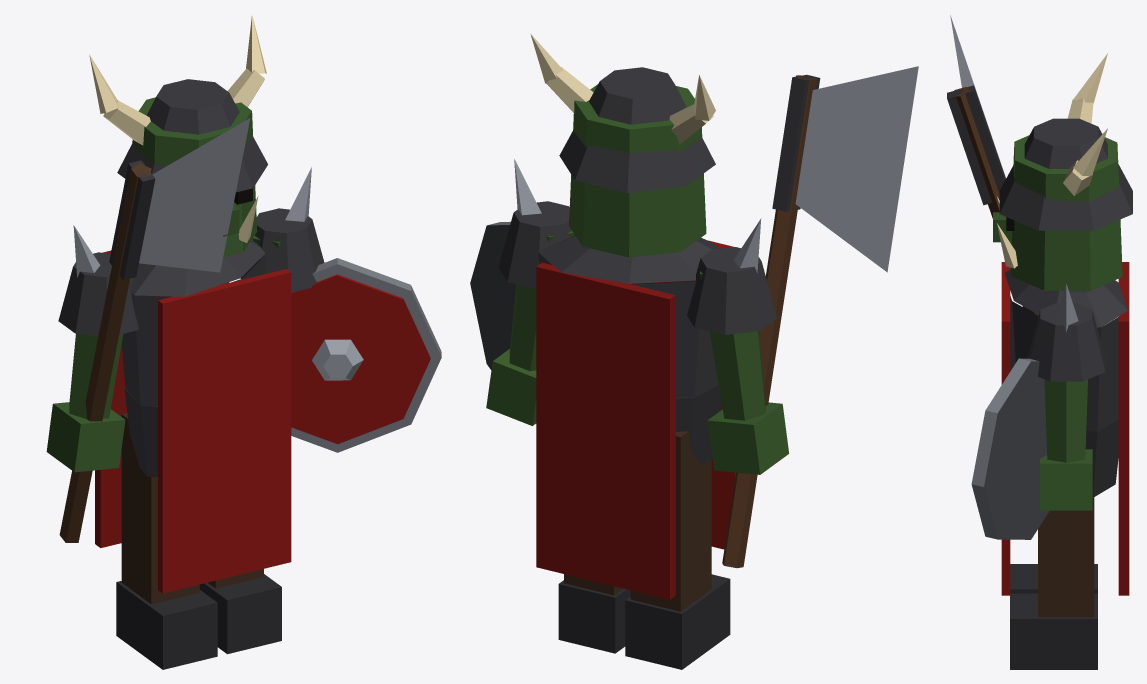
File: orc_warrior.glb
3 views of the same model, side by side, from view 1: azimuth 30°, elevation 25°; view 2: azimuth 150°, elevation 25°; view 3: azimuth 270°, elevation 25° (orthographic). The views are drawn at different scales.
Parts seen in each view (by area): view 1: orc_warrior_torso, orc_warrior_shield, orc_warrior_axe, orc_warrior_head, orc_warrior_leg_r, orc_warrior_arm_r, orc_warrior_leg_l, orc_warrior_arm_l; view 2: orc_warrior_torso, orc_warrior_head, orc_warrior_axe, orc_warrior_arm_r, orc_warrior_leg_r, orc_warrior_arm_l, orc_warrior_leg_l, orc_warrior_shield; view 3: orc_warrior_head, orc_warrior_torso, orc_warrior_leg_l, orc_warrior_arm_l, orc_warrior_shield, orc_warrior_axe, orc_warrior_leg_r.
Part boxes in pixels (x1=…): orc_warrior_torso: x1=95, y1=239, x2=291, y2=593; orc_warrior_shield: x1=291, y1=258, x2=441, y2=452; orc_warrior_axe: x1=59, y1=118, x2=250, y2=542; orc_warrior_head: x1=89, y1=14, x2=267, y2=257; orc_warrior_leg_r: x1=116, y1=413, x2=217, y2=669; orc_warrior_arm_r: x1=46, y1=225, x2=138, y2=472; orc_warrior_leg_l: x1=199, y1=569, x2=281, y2=654; orc_warrior_arm_l: x1=240, y1=167, x2=324, y2=292; orc_warrior_torso: x1=536, y1=235, x2=735, y2=599; orc_warrior_head: x1=530, y1=33, x2=715, y2=257; orc_warrior_axe: x1=722, y1=66, x2=918, y2=568; orc_warrior_arm_r: x1=687, y1=218, x2=788, y2=474; orc_warrior_leg_r: x1=625, y1=431, x2=730, y2=669; orc_warrior_arm_l: x1=486, y1=159, x2=574, y2=425; orc_warrior_leg_l: x1=558, y1=574, x2=630, y2=653; orc_warrior_shield: x1=470, y1=221, x2=516, y2=369; orc_warrior_head: x1=993, y1=53, x2=1132, y2=290; orc_warrior_torso: x1=1001, y1=262, x2=1129, y2=595; orc_warrior_leg_l: x1=1010, y1=497, x2=1097, y2=669; orc_warrior_arm_l: x1=1027, y1=283, x2=1105, y2=510; orc_warrior_shield: x1=971, y1=358, x2=1049, y2=539; orc_warrior_axe: x1=947, y1=15, x2=1038, y2=315; orc_warrior_leg_r: x1=1010, y1=564, x2=1097, y2=593.
Bounding box in the file's own units: 1.65 × 2.22 × 0.6763.
